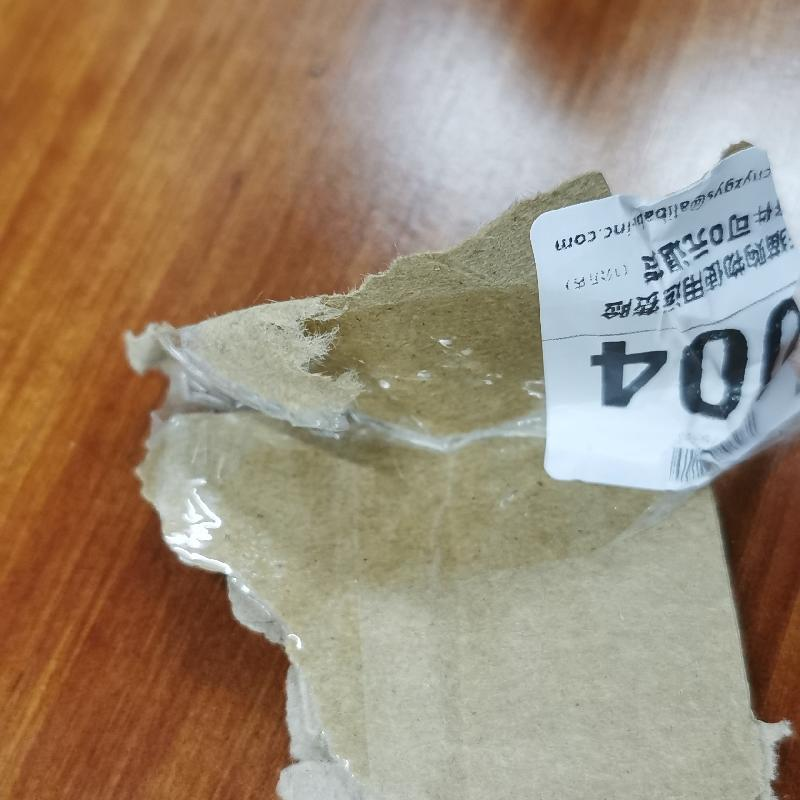boxes: (120, 138, 800, 800)
